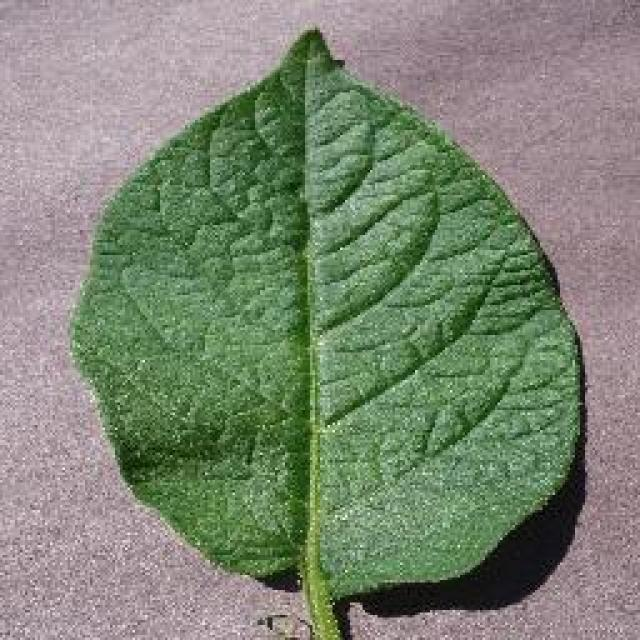Potato: (67, 25, 585, 637)
